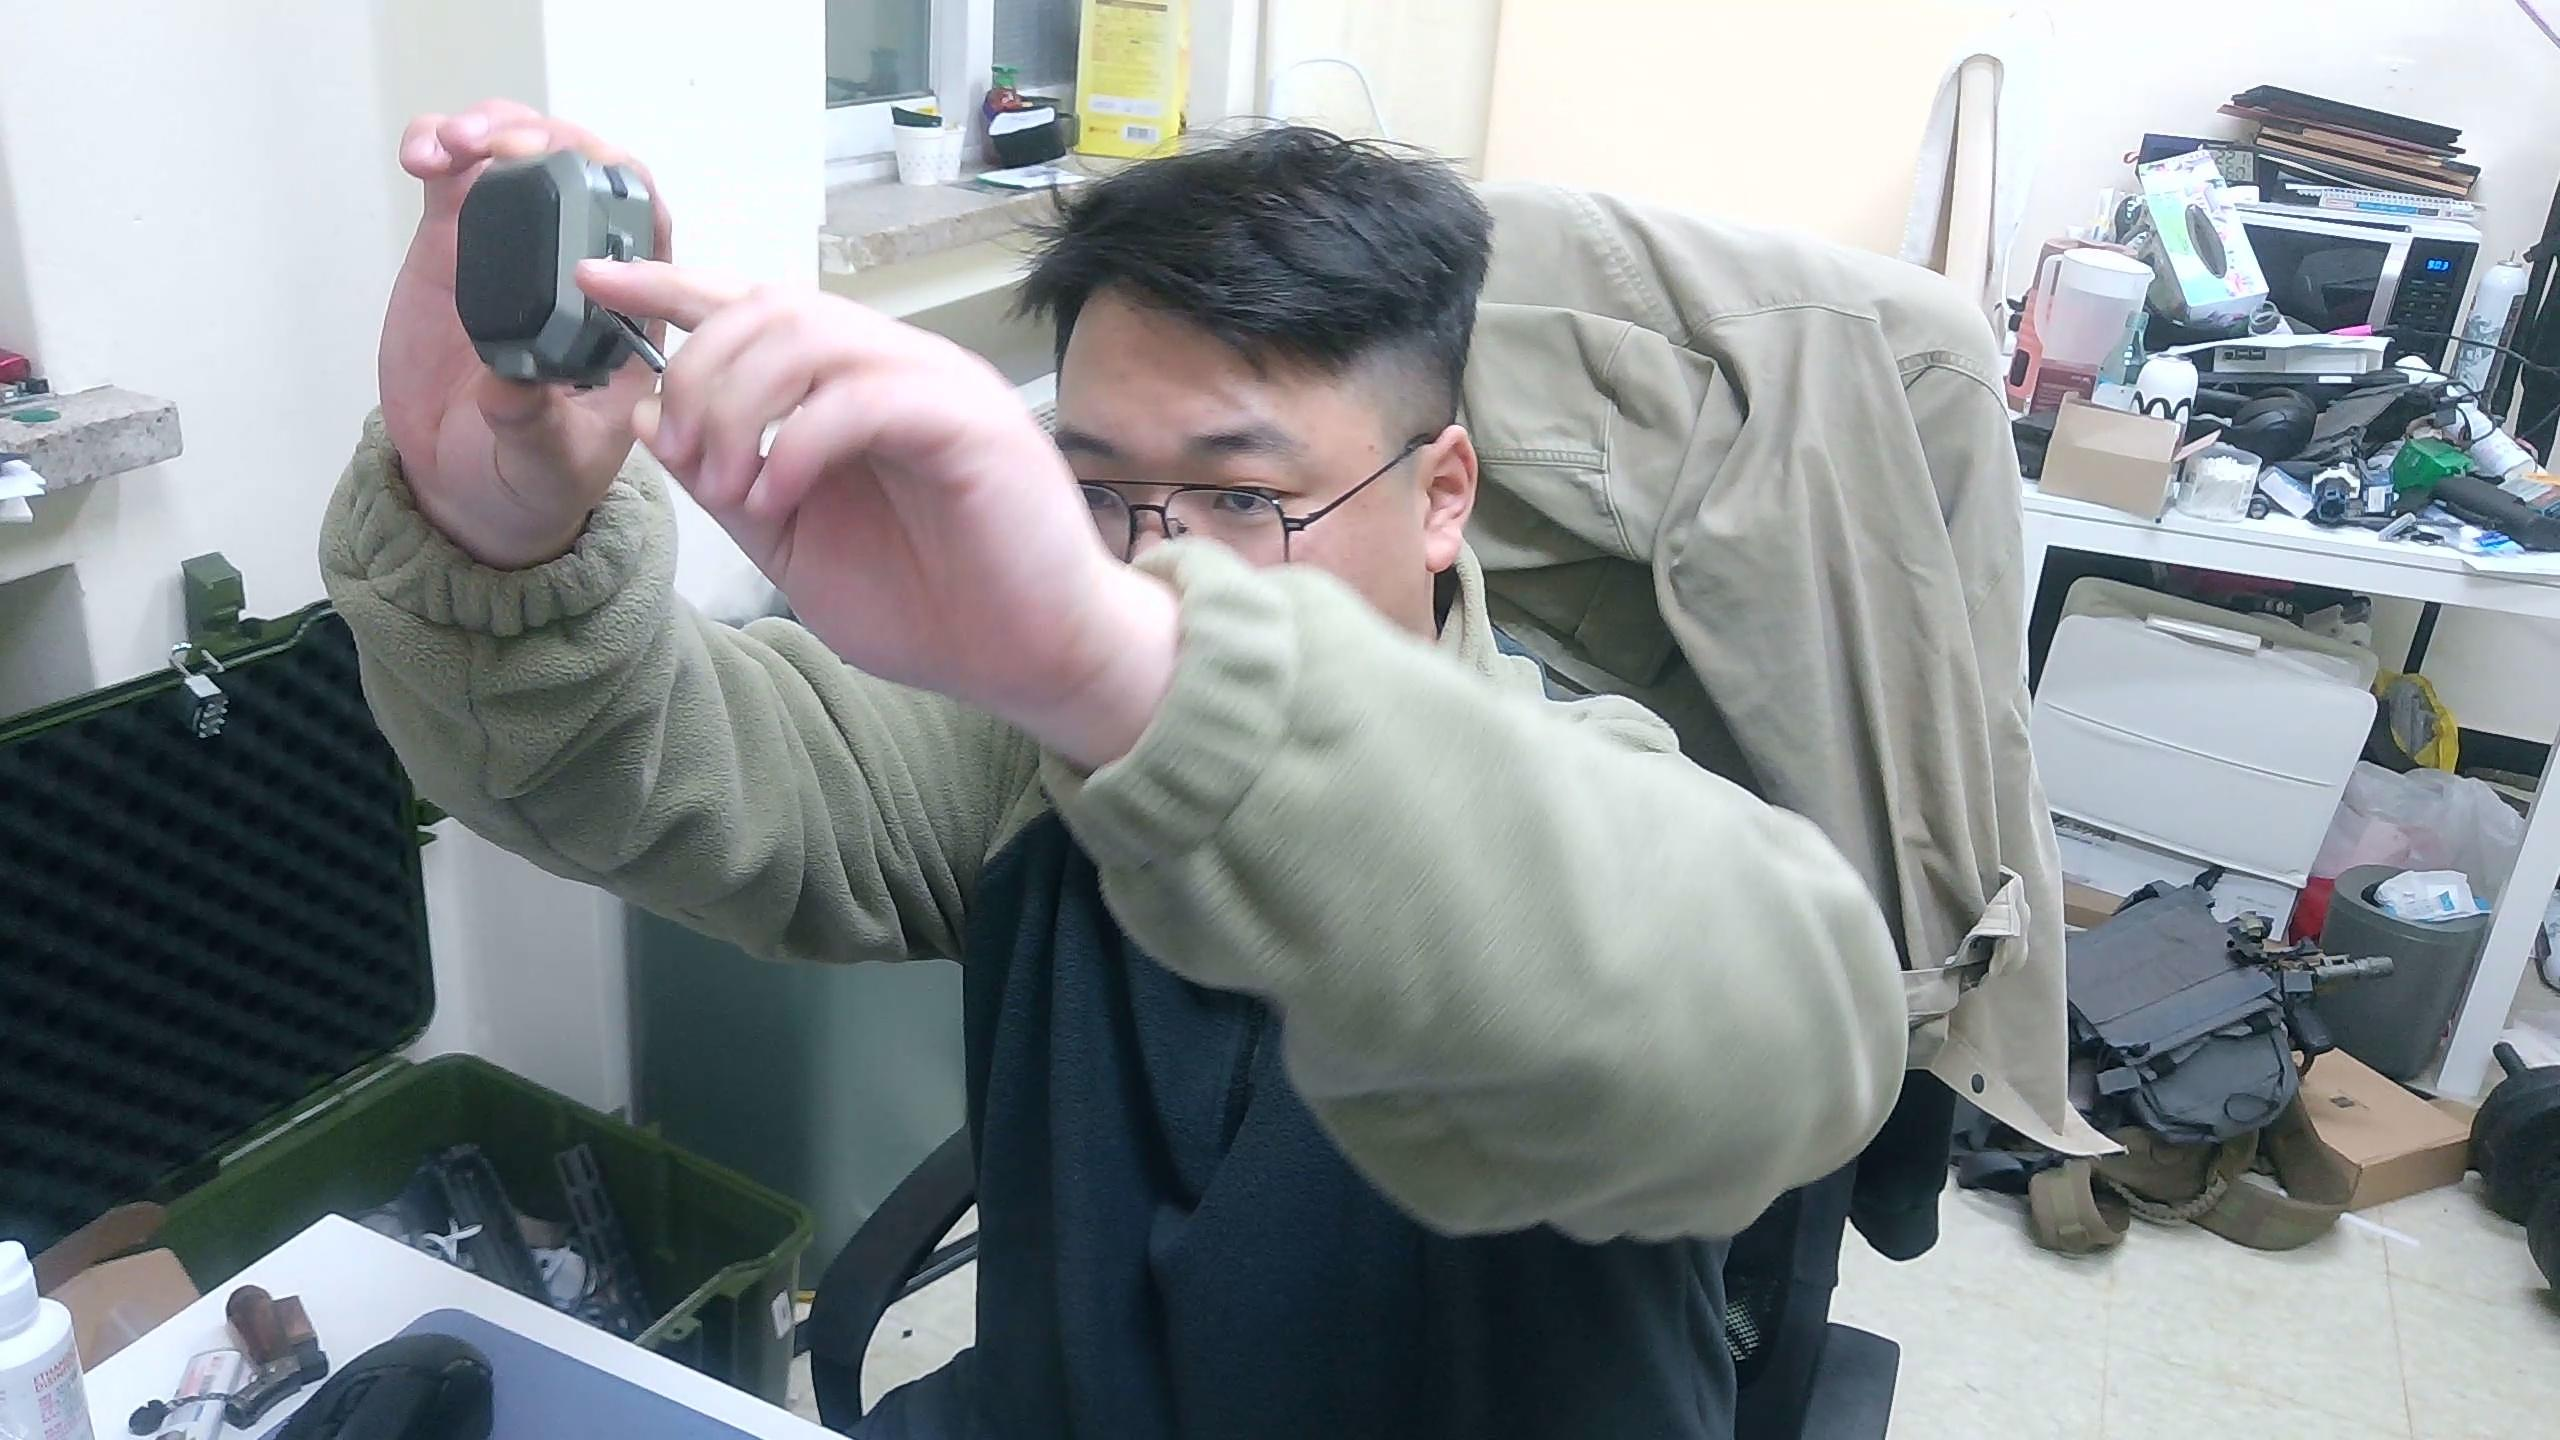blue_pliers: (454, 144, 675, 390)
